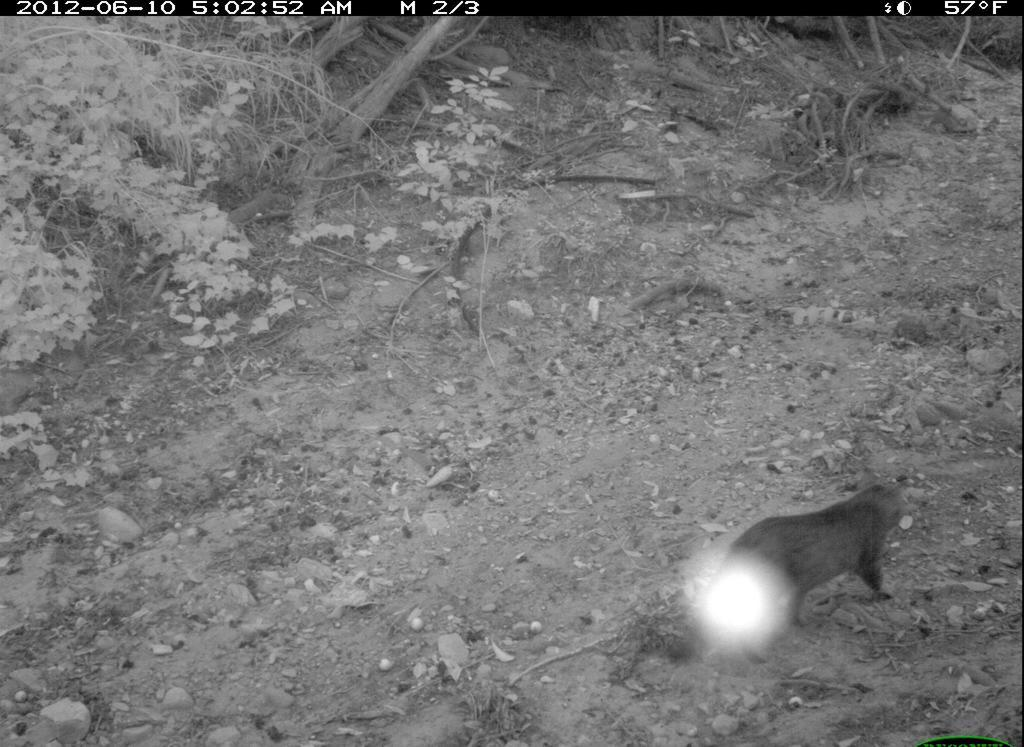cat: (697, 475, 914, 637)
